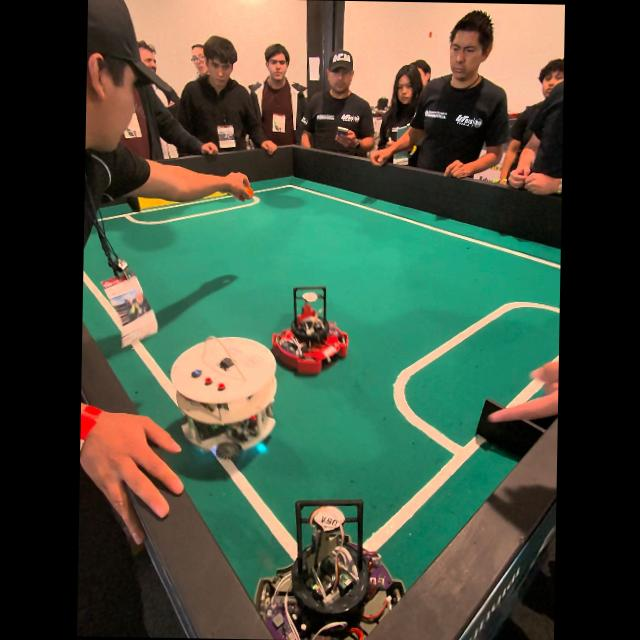goal: (475, 398, 544, 457)
robot: (254, 499, 403, 640), (169, 336, 275, 459), (271, 286, 347, 374)
